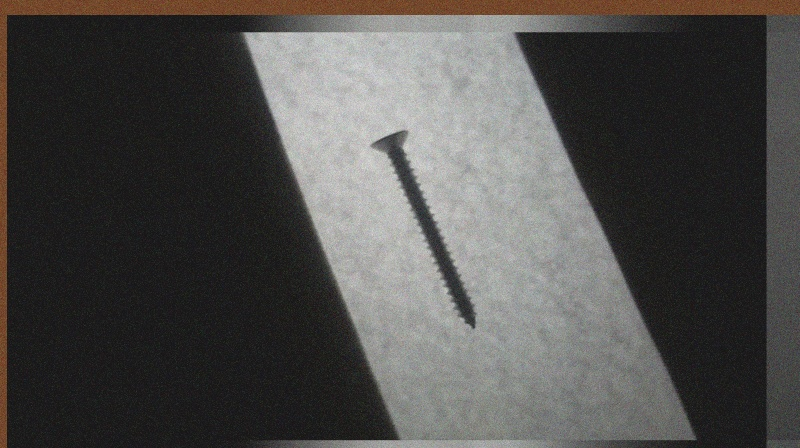S002: (366, 129, 478, 333)
